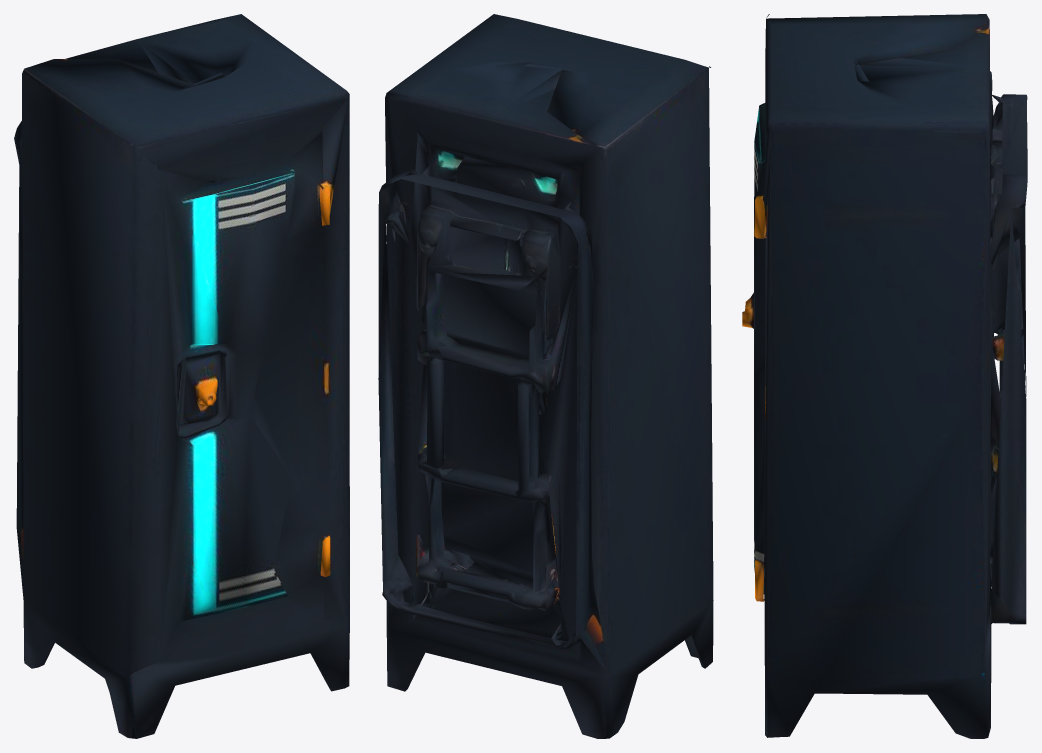
The model's file is single_locker.glb.
3 views of the same model, side by side, from view 1: azimuth 30°, elevation 25°; view 2: azimuth 150°, elevation 25°; view 3: azimuth 270°, elevation 25° (orthographic). The views are drawn at different scales.
Size of the model in its own units: 0.7447 by 1.9 by 0.797.
1 material, 1 textured.
